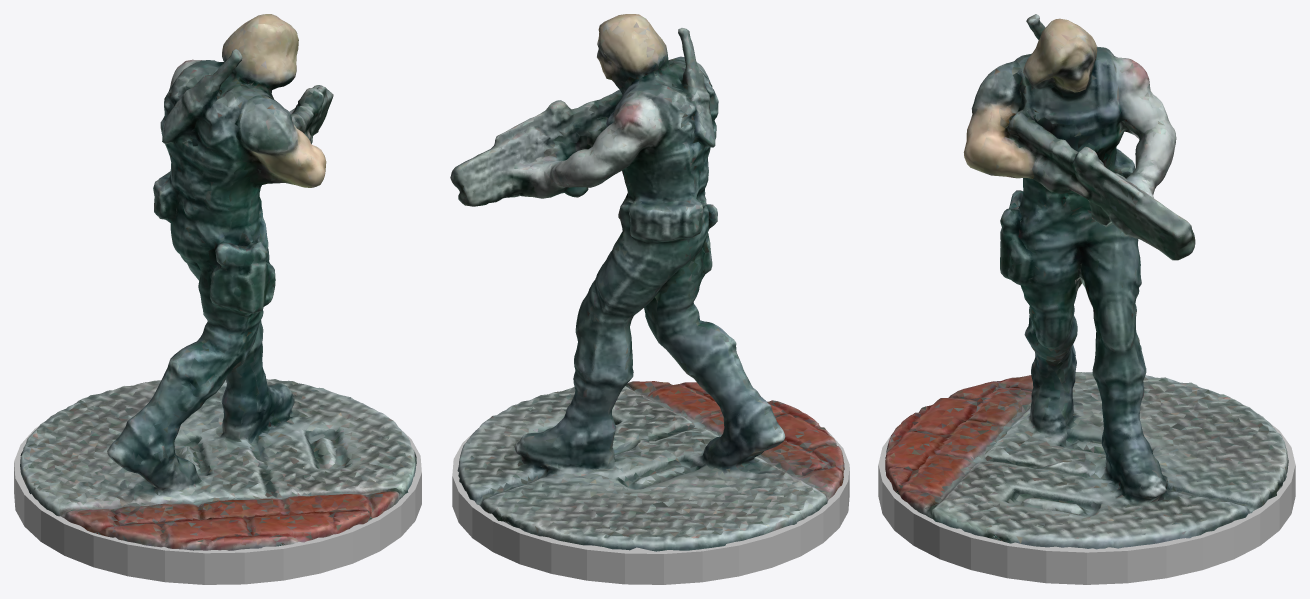
The picture shows the model from 3 angles, left to right: view 1: azimuth 30°, elevation 25°; view 2: azimuth 150°, elevation 25°; view 3: azimuth 270°, elevation 25°; orthographic projection. The views are drawn at different scales.
Visible parts, largest first — view 1: Bucky, default; view 2: Bucky, default; view 3: Bucky, default.
Part boxes in pixels (x1,y1,x2,y2): Bucky: (20,14,416,550); default: (14,426,421,584); Bucky: (450,14,844,551); default: (452,432,849,584); Bucky: (885,14,1288,549); default: (878,423,1295,584).
Size of the model in its own units: 1.38 by 1.79 by 1.38.
Materials: 2 (1 with a texture image).
